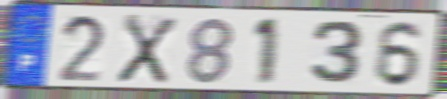1: (251, 17, 283, 86)
2: (54, 12, 111, 83)
3: (309, 19, 368, 87)
6: (373, 18, 425, 89)
8: (186, 15, 236, 85)
X: (114, 12, 180, 86)
